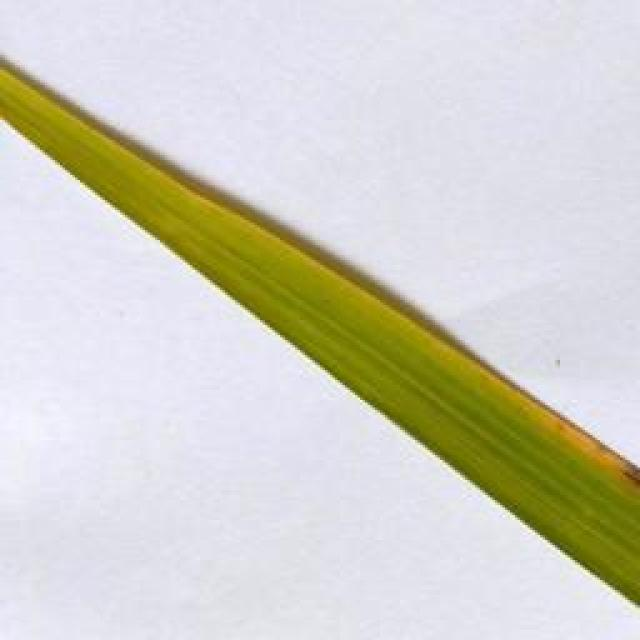Brown_Spot: (543, 412, 640, 545), (612, 421, 640, 507)
